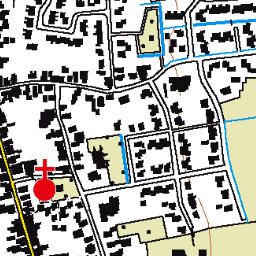church: (31, 156, 60, 205)
